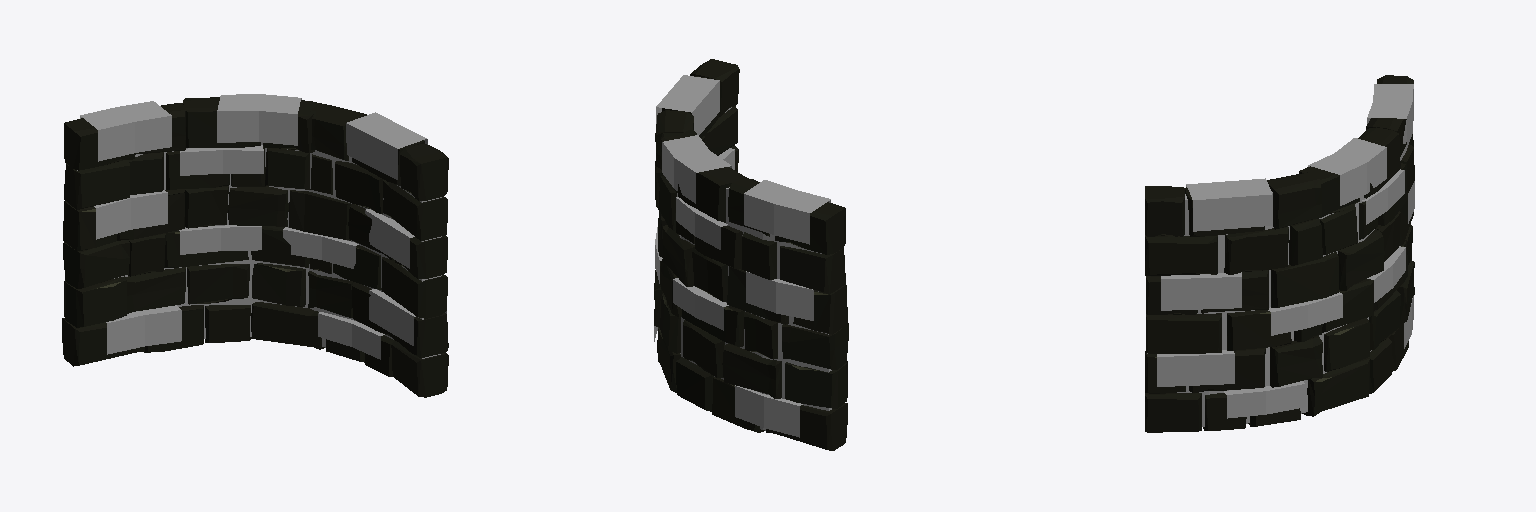
Rendered from Curve_2_Overgrown.obj.
3 views of the same model, side by side, from view 1: azimuth 30°, elevation 25°; view 2: azimuth 150°, elevation 25°; view 3: azimuth 270°, elevation 25° (orthographic).
Parts seen in each view (by area): view 1: Curve_2_Overgrown_Cube.025; view 2: Curve_2_Overgrown_Cube.025; view 3: Curve_2_Overgrown_Cube.025.
Boxes of the visible parts, x1=… form: Curve_2_Overgrown_Cube.025: x1=62, y1=94, x2=448, y2=397; Curve_2_Overgrown_Cube.025: x1=654, y1=59, x2=848, y2=450; Curve_2_Overgrown_Cube.025: x1=1145, y1=75, x2=1414, y2=432.
Bounding box in the file's own units: 2.3 × 2 × 2.07.